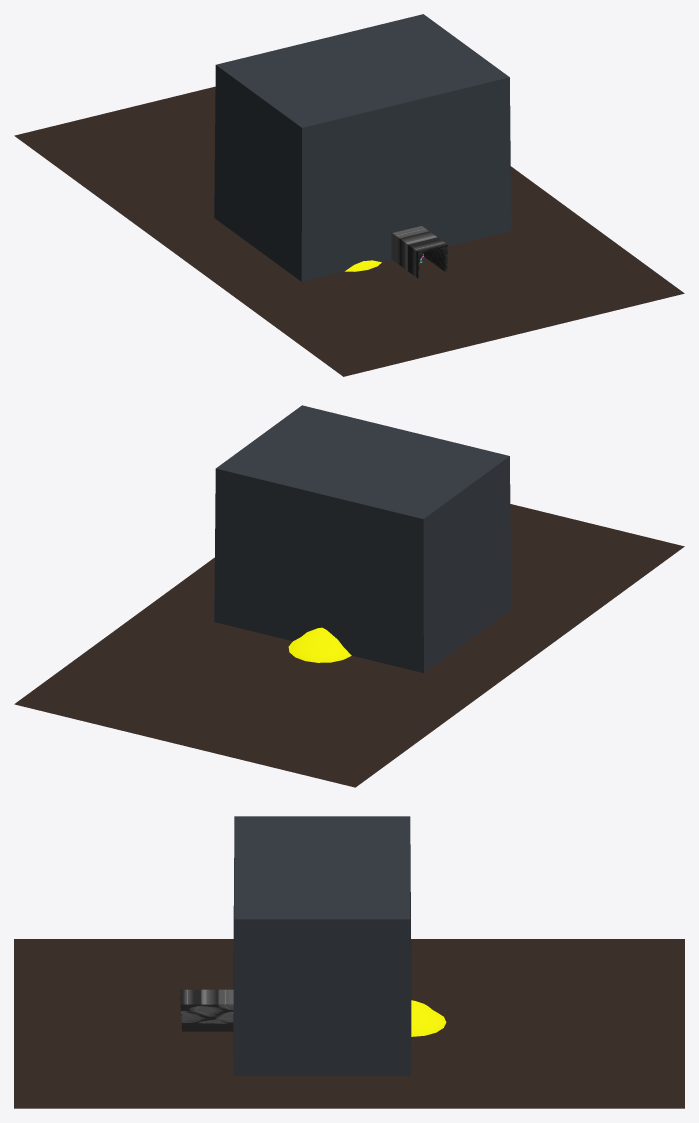
Rendered from crystalslotmachine.glb.
The picture shows the model from 3 angles, top to bottom: view 1: azimuth 30°, elevation 25°; view 2: azimuth 150°, elevation 25°; view 3: azimuth 270°, elevation 25°; orthographic projection.
Parts seen in each view (by area): view 1: VaultWalls, CavernFloor, CavernWalls; view 2: CavernFloor, VaultWalls, GoldPile.007; view 3: CavernFloor, VaultWalls, CavernWalls, GoldPile.007.
Boxes of the visible parts, left/top/right/bottom form: VaultWalls: left=214, top=14, right=511, bottom=281; CavernFloor: left=14, top=86, right=684, bottom=376; CavernWalls: left=391, top=226, right=447, bottom=278; CavernFloor: left=14, top=504, right=684, bottom=787; VaultWalls: left=214, top=405, right=511, bottom=672; GoldPile.007: left=288, top=627, right=351, bottom=662; CavernFloor: left=14, top=939, right=684, bottom=1108; VaultWalls: left=233, top=816, right=411, bottom=1075; CavernWalls: left=180, top=989, right=233, bottom=1031; GoldPile.007: left=411, top=1000, right=446, bottom=1036.
Bounding box in the file's own units: 218 × 94.43 × 364.
Materials: 10 (3 with a texture image).
